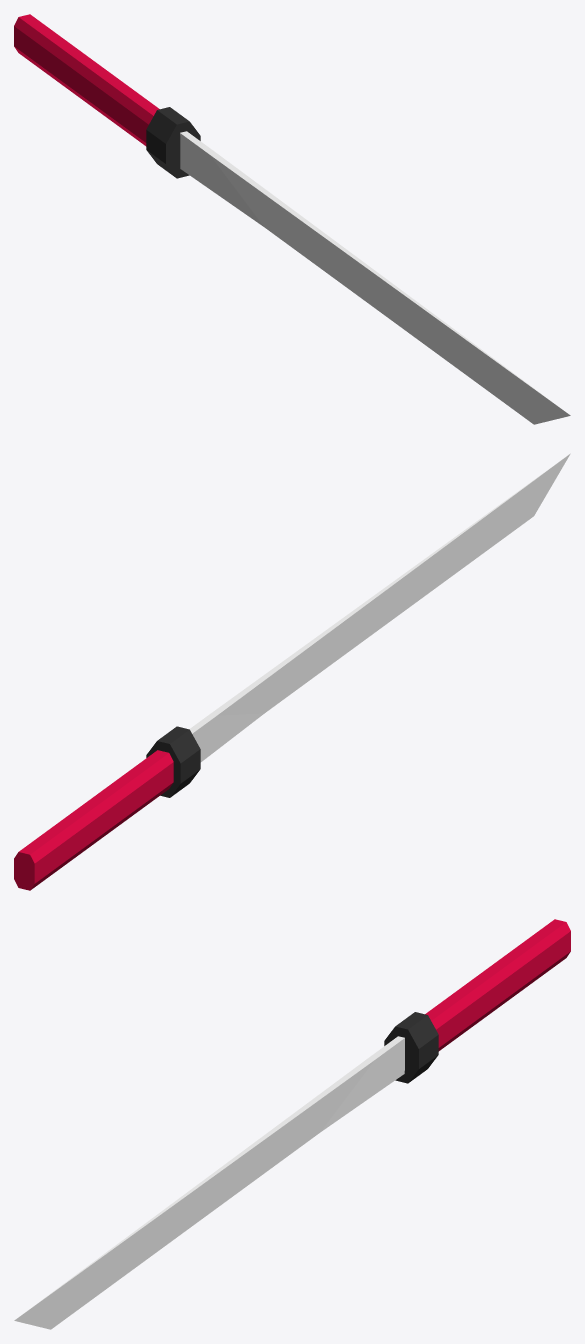
The model's file is sword.glb.
3 renders of one model, top to bottom at view 1: azimuth 30°, elevation 25°; view 2: azimuth 150°, elevation 25°; view 3: azimuth 330°, elevation 25°, orthographic.
Visible parts, largest first — view 1: sword; view 2: sword; view 3: sword.
Boxes of the visible parts, x1=… form: sword: x1=14, y1=14, x2=570, y2=424; sword: x1=14, y1=453, x2=570, y2=890; sword: x1=14, y1=919, x2=570, y2=1329.
Size of the model in its own units: 0.1 by 0.15 by 2.75.
